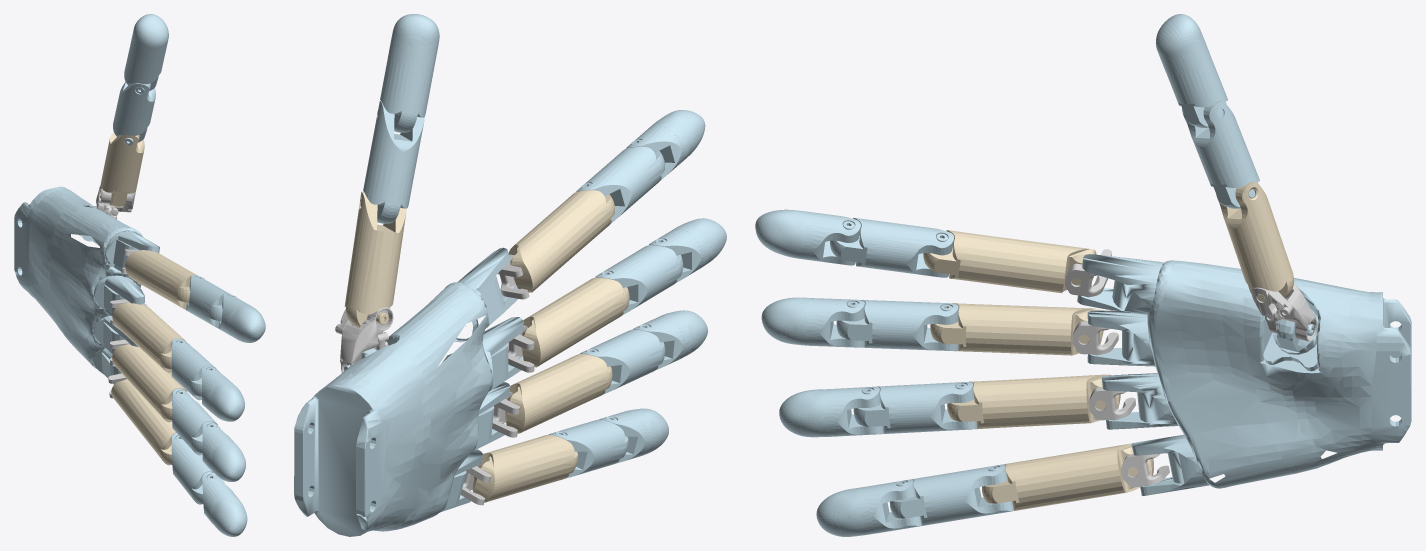
The model's file is wuji-right-web.glb.
The picture shows the model from 3 angles, left to right: view 1: azimuth 30°, elevation 25°; view 2: azimuth 150°, elevation 25°; view 3: azimuth 270°, elevation 25°; orthographic projection. The views are drawn at different scales.
Visible parts, largest first — view 1: right_palm_link_visual, right_finger4_link2_visual, right_finger3_link2_visual, right_finger2_link2_visual, right_finger1_link2_visual, right_finger5_link2_visual, right_finger1_link3_visual, right_finger4_link3_visual, right_finger5_link3_visual, right_finger3_link3_visual, right_finger1_tip_link_visual, right_finger5_tip_link_visual (+10 smaller); view 2: right_palm_link_visual, right_finger2_link2_visual, right_finger1_link2_visual, right_finger3_link2_visual, right_finger4_link2_visual, right_finger1_link3_visual, right_finger5_link2_visual, right_finger2_link3_visual, right_finger3_link3_visual, right_finger4_link3_visual, right_finger1_link4_visual, right_finger5_link3_visual (+14 smaller); view 3: right_palm_link_visual, right_finger2_link2_visual, right_finger5_link2_visual, right_finger3_link2_visual, right_finger4_link2_visual, right_finger1_link2_visual, right_finger2_link3_visual, right_finger3_link3_visual, right_finger4_link3_visual, right_finger5_link3_visual, right_finger1_link3_visual, right_finger1_tip_link_visual (+14 smaller).
Part boxes in pixels (box(x1,y1,x2,y2)): right_palm_link_visual: box(14, 186, 159, 384); right_finger4_link2_visual: box(112, 344, 187, 422); right_finger3_link2_visual: box(112, 302, 186, 372); right_finger2_link2_visual: box(125, 250, 198, 309); right_finger1_link2_visual: box(99, 132, 144, 206); right_finger5_link2_visual: box(111, 379, 176, 465); right_finger1_link3_visual: box(113, 82, 155, 145); right_finger4_link3_visual: box(172, 388, 217, 455); right_finger5_link3_visual: box(171, 433, 224, 504); right_finger3_link3_visual: box(171, 338, 216, 400); right_finger1_tip_link_visual: box(130, 14, 168, 60); right_finger5_tip_link_visual: box(205, 491, 247, 536); right_palm_link_visual: box(294, 247, 523, 536); right_finger2_link2_visual: box(508, 190, 614, 292); right_finger1_link2_visual: box(344, 191, 406, 327); right_finger3_link2_visual: box(521, 277, 629, 367); right_finger4_link2_visual: box(505, 353, 612, 433); right_finger1_link3_visual: box(360, 101, 425, 223); right_finger5_link2_visual: box(472, 434, 577, 502); right_finger2_link3_visual: box(576, 146, 664, 223); right_finger3_link3_visual: box(595, 245, 683, 314); right_finger4_link3_visual: box(580, 329, 665, 394); right_finger1_link4_visual: box(377, 59, 434, 132); right_finger5_link3_visual: box(549, 419, 628, 478); right_palm_link_visual: box(1077, 254, 1411, 495); right_finger2_link2_visual: box(923, 230, 1096, 293); right_finger5_link2_visual: box(982, 443, 1153, 510); right_finger3_link2_visual: box(930, 303, 1103, 355); right_finger4_link2_visual: box(947, 374, 1120, 429); right_finger1_link2_visual: box(1216, 182, 1294, 301); right_finger2_link3_visual: box(830, 217, 954, 277); right_finger3_link3_visual: box(836, 300, 958, 351); right_finger4_link3_visual: box(853, 382, 977, 433); right_finger5_link3_visual: box(889, 464, 1013, 525); right_finger1_link3_visual: box(1181, 101, 1259, 208); right_finger1_tip_link_visual: box(1156, 14, 1210, 75).
Bounding box in the file's own units: 0.0498 × 0.1896 × 0.2057.
